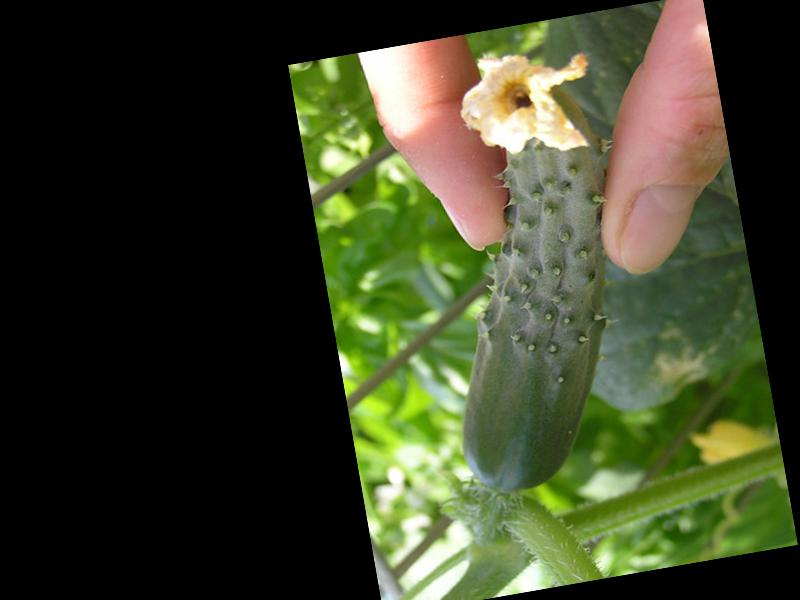Cucumber: (399, 41, 658, 500)
